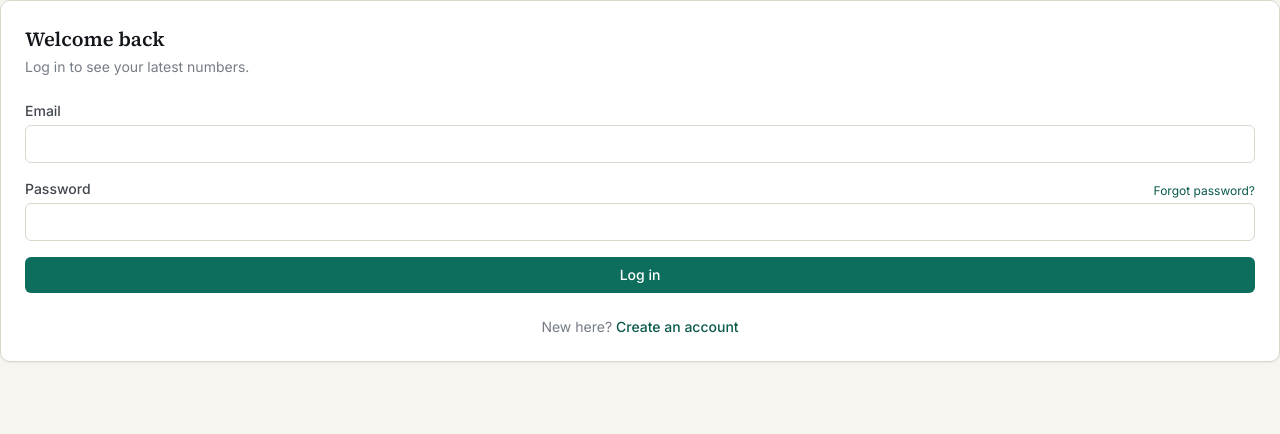
Test: LoginPage › shows an error message on invalid credentials
Type "a@b.com" into the field labelled "Email" at (640, 144), box [25, 125, 1255, 163]
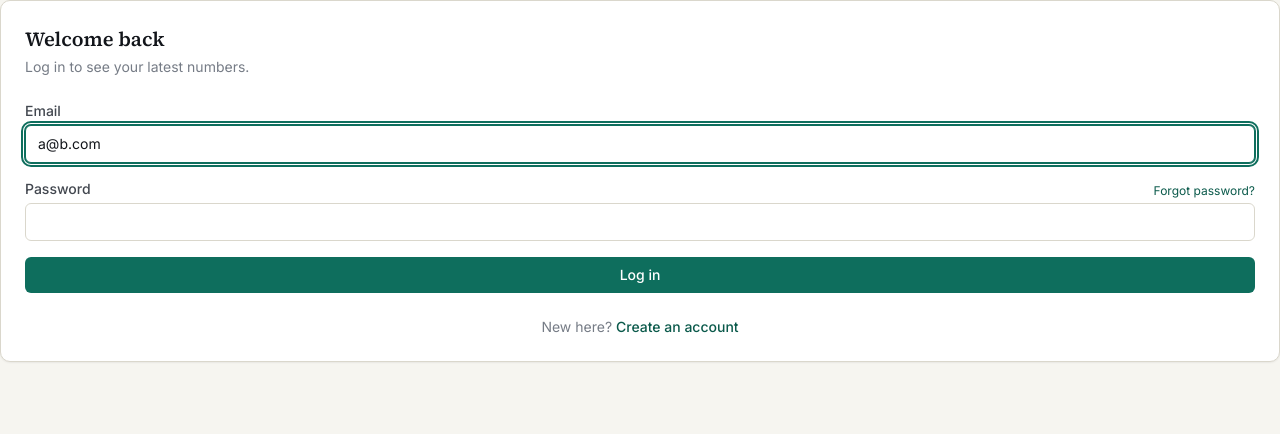
Type "WrongPassword" into the password field labelled "Password" at (640, 222), box [25, 203, 1255, 241]
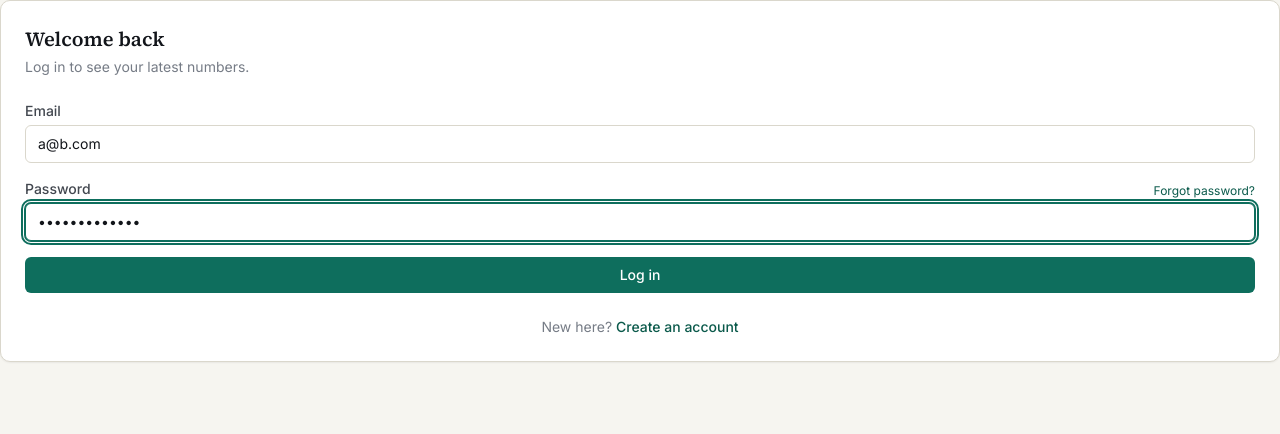
Click the button "Log in" at (640, 275), box [25, 257, 1255, 293]
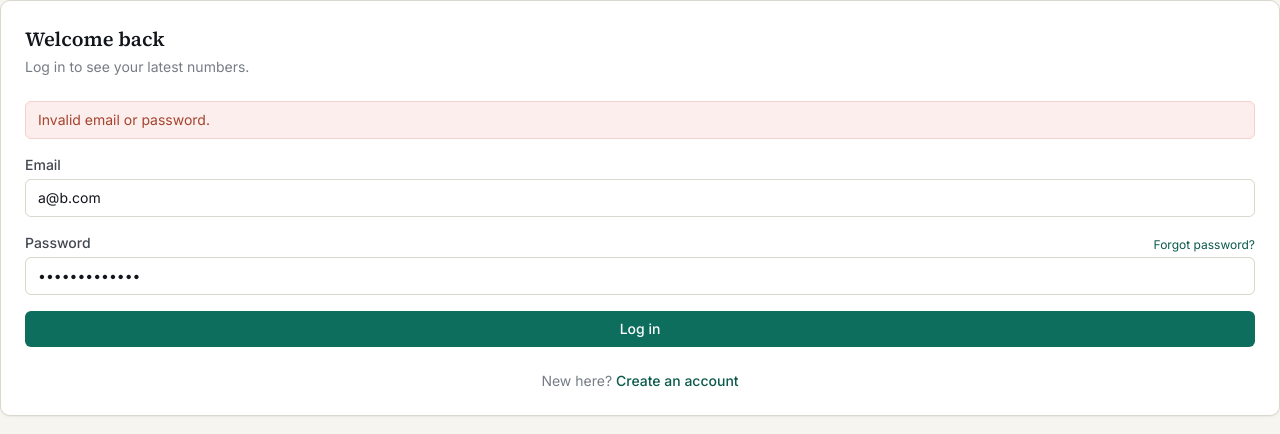
Result: the message reads "Invalid email or password." at [38, 111, 210, 128]
